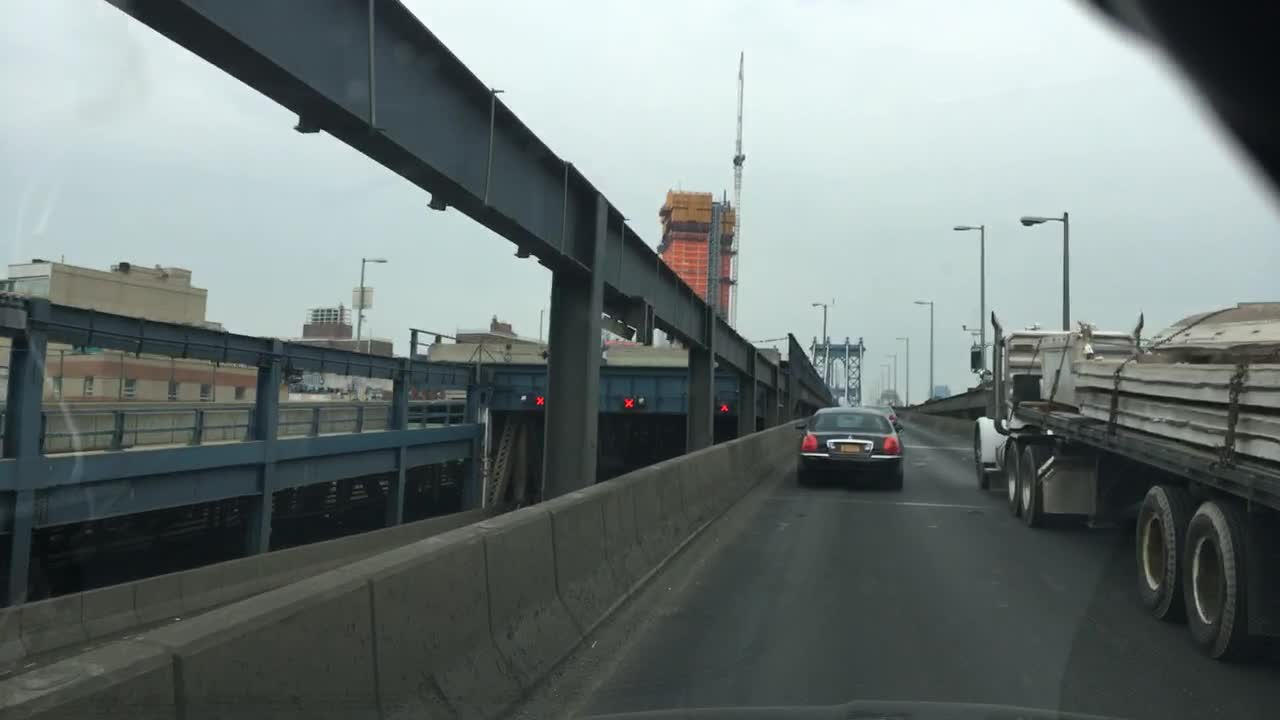car: (792, 406, 905, 495), (880, 406, 900, 430)
traffic light: (618, 396, 632, 409), (532, 393, 542, 411), (717, 401, 727, 416), (519, 396, 530, 406), (636, 395, 641, 410)
traffic sign: (354, 288, 371, 309)
truck: (972, 299, 1276, 662)
